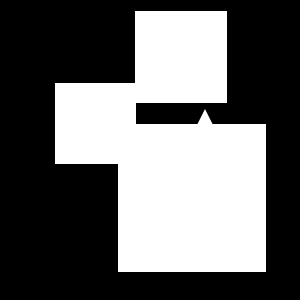circle: (118, 124, 266, 272), (135, 11, 227, 103), (55, 83, 136, 164)
triangle: (158, 109, 252, 203), (183, 73, 200, 90)
